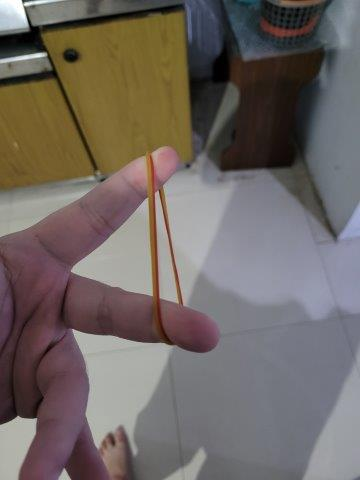karet: (144, 152, 189, 345)
